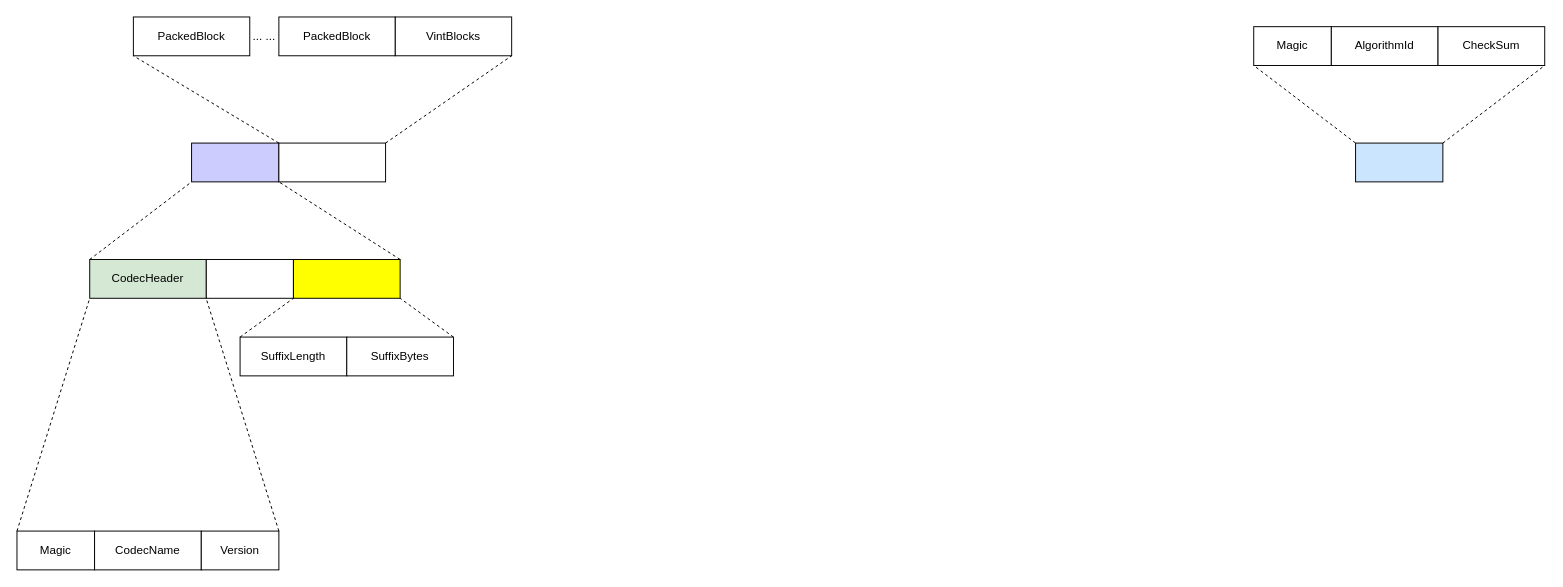
Image size: 1563x587. Some labels were removed from this diagram. The centre of each missing label's shape, as x and y in pixels:
Footer: point (1399, 162)
Header: point (235, 162)
ObjectId: point (249, 278)
ObjectSuffix: point (346, 278)
TermFreqs: point (332, 162)
